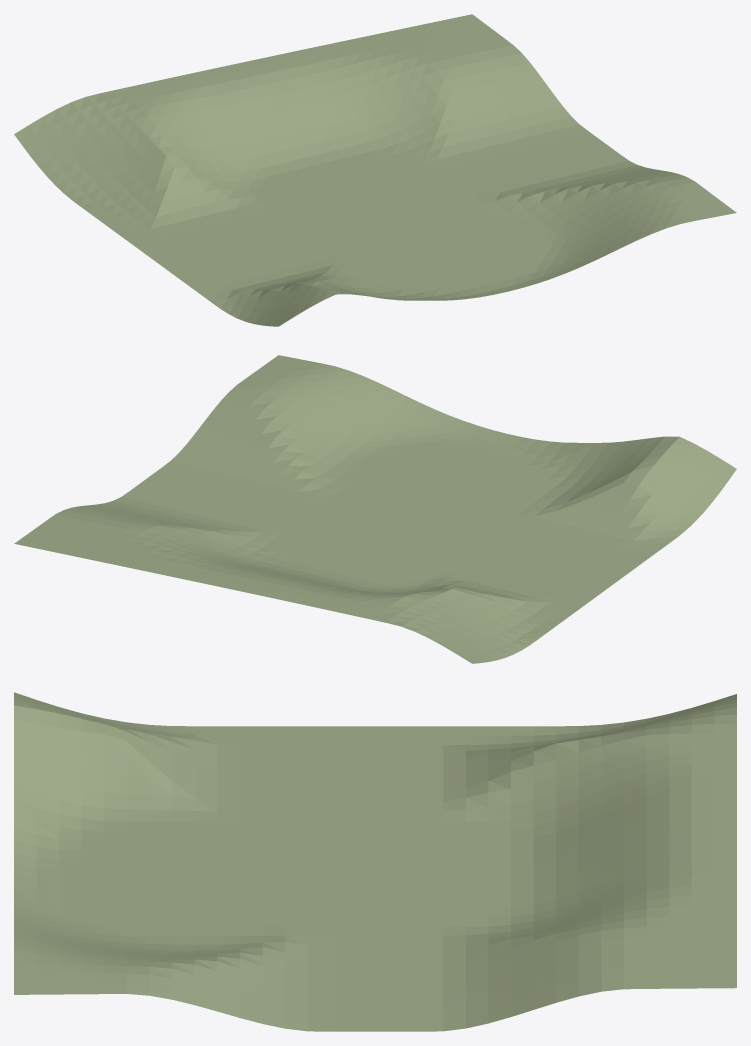
The model's file is gardens-2-1.glb.
3 views of the same model, one above another, from view 1: azimuth 30°, elevation 25°; view 2: azimuth 150°, elevation 25°; view 3: azimuth 270°, elevation 25° (orthographic). The views are drawn at different scales.
Parts seen in each view (by area): view 1: gardens-2-1; view 2: gardens-2-1; view 3: gardens-2-1.
Part boxes in pixels (x1=…): gardens-2-1: x1=14, y1=14, x2=736, y2=326; gardens-2-1: x1=14, y1=355, x2=736, y2=663; gardens-2-1: x1=14, y1=692, x2=736, y2=1031.
Size of the model in its own units: 256 by 23.33 by 256.
